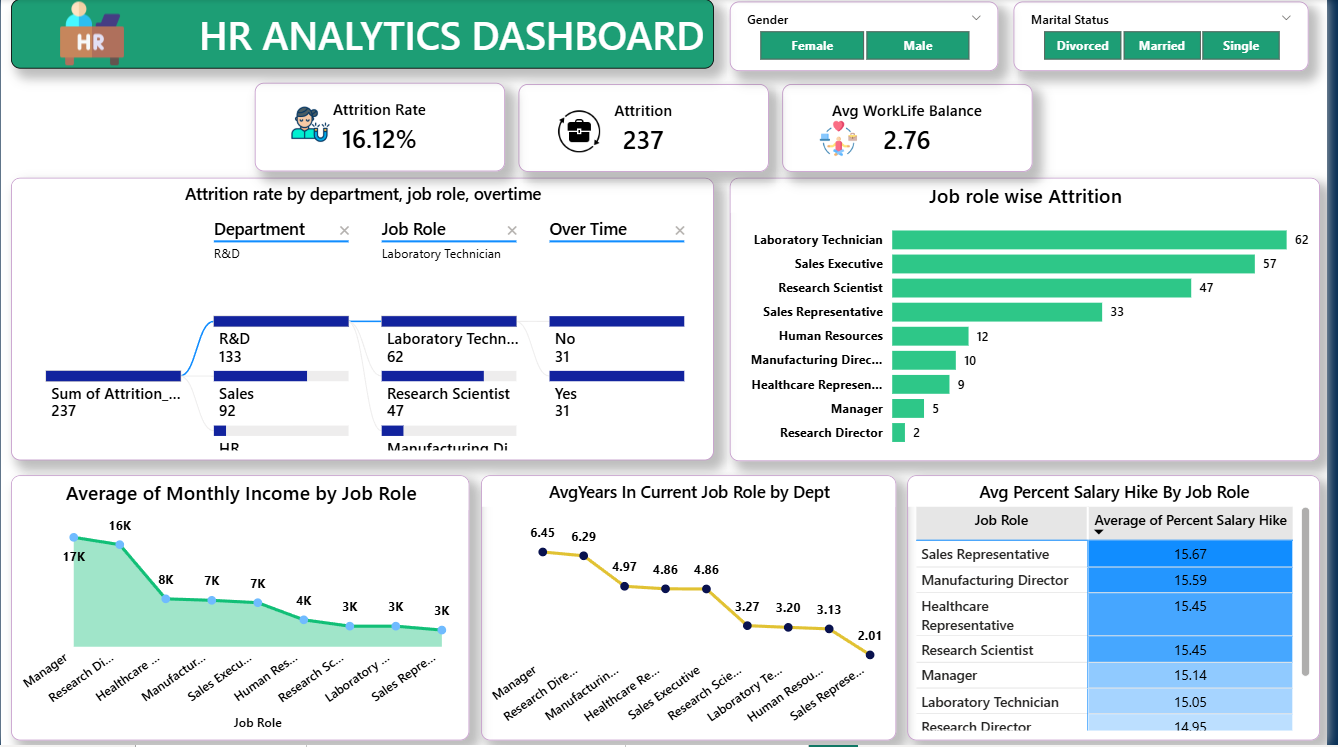

Layout of this report page (visuals, bound fields, positions):
{"tool":"powerbi","page":{"name":"work force attrition","canvas":[1280,720],"ordinal":2},"visuals":[{"type":"decompositionTreeVisual","title":"Attrition rate by department, job role, overtime","fields":{"Analyze":["Sum(HR data.Attrition_Count)"],"ExplainBy":["HR data.Department","HR data.Job Role","HR data.Over Time"]},"box":[9.7,172.5,678,272.7],"z":0},{"type":"barChart","title":"Job role wise Attrition","fields":{"Category":["HR data.Job Role"],"Y":["Sum(HR data.Attrition_Count)"]},"box":[703.4,172.5,569.4,273.9],"z":1000},{"type":"cardVisual","fields":{"Data":["HR data.Attrition_Rate"]},"box":[244.9,80.8,241.3,85.7],"z":2000,"group":"g3"},{"type":"areaChart","fields":{"Category":["HR data.Job Role"],"Y":["Avg(HR data.Monthly Income)"]},"box":[9.7,459.7,442.8,255.8],"z":2000},{"type":"lineChart","title":"AvgYears In Current Job Role by Dept","fields":{"Y":["Avg(HR data.Years In Current Role)"],"Category":["HR data.Job Role"]},"box":[463.3,459.7,400.5,255.8],"z":3000},{"type":"pivotTable","title":"Avg Percent Salary Hike By Job Role","fields":{"Rows":["HR data.Job Role"],"Values":["Avg(HR data.Percent Salary Hike)"]},"box":[874.7,459.7,398.1,255.8],"z":4000},{"type":"cardVisual","fields":{"Data":["Sum(HR data.Attrition_Count)"]},"box":[499.5,82,241.3,85],"z":5000,"group":"g2"},{"type":"group","id":"g1","title":"Group 1","box":[754,82,241.3,84.5],"z":5000},{"type":"group","id":"g2","title":"Group 2","box":[499.5,82,241.3,84.5],"z":6000},{"type":"image","box":[535.4,103.7,44.6,48.1],"z":6000,"group":"g2"},{"type":"group","id":"g3","title":"Group 3","box":[244.9,80.8,241.3,85.7],"z":7000},{"type":"image","box":[271.7,102.6,54.8,36.5],"z":7000,"group":"g3"},{"type":"textbox","box":[9.7,0,678,67.6],"z":8000},{"type":"image","box":[45.8,2.4,84.5,61.5],"z":9000},{"type":"slicer","fields":{"Values":["HR data.Gender"]},"box":[703.4,2.4,259.4,67.6],"z":10000},{"type":"slicer","fields":{"Values":["HR data.Marital Status"]},"box":[977.2,2.4,284.7,67.6],"z":11000},{"type":"cardVisual","fields":{"Data":["HR data.Avg WorkLife Balance"]},"box":[754,82,241.3,85],"z":11000,"group":"g1"},{"type":"image","box":[770.7,113.1,74.8,42.5],"z":12000,"group":"g1"}]}

Visuals, with their boxes in screenshot pixels (x1, y1, x2, y2), scaled from the page's 1280x720 canvas onto the 1338x747 screenshot:
"Attrition rate by department, job role, overtime" decompositionTreeVisual: [x1=10, y1=179, x2=719, y2=462]
"Job role wise Attrition" barChart: [x1=735, y1=179, x2=1330, y2=463]
cardVisual - HR data.Attrition_Rate: [x1=256, y1=84, x2=508, y2=173]
areaChart - HR data.Job Role x Avg(HR data.Monthly Income): [x1=10, y1=477, x2=473, y2=742]
"AvgYears In Current Job Role by Dept" lineChart: [x1=484, y1=477, x2=903, y2=742]
"Avg Percent Salary Hike By Job Role" pivotTable: [x1=914, y1=477, x2=1330, y2=742]
cardVisual - Sum(HR data.Attrition_Count): [x1=522, y1=85, x2=774, y2=173]
"Group 1" group: [x1=788, y1=85, x2=1040, y2=173]
"Group 2" group: [x1=522, y1=85, x2=774, y2=173]
image: [x1=560, y1=108, x2=606, y2=157]
"Group 3" group: [x1=256, y1=84, x2=508, y2=173]
image: [x1=284, y1=106, x2=341, y2=144]
textbox: [x1=10, y1=0, x2=719, y2=70]
image: [x1=48, y1=2, x2=136, y2=66]
slicer - HR data.Gender: [x1=735, y1=2, x2=1006, y2=73]
slicer - HR data.Marital Status: [x1=1021, y1=2, x2=1319, y2=73]
cardVisual - HR data.Avg WorkLife Balance: [x1=788, y1=85, x2=1040, y2=173]
image: [x1=806, y1=117, x2=884, y2=161]
